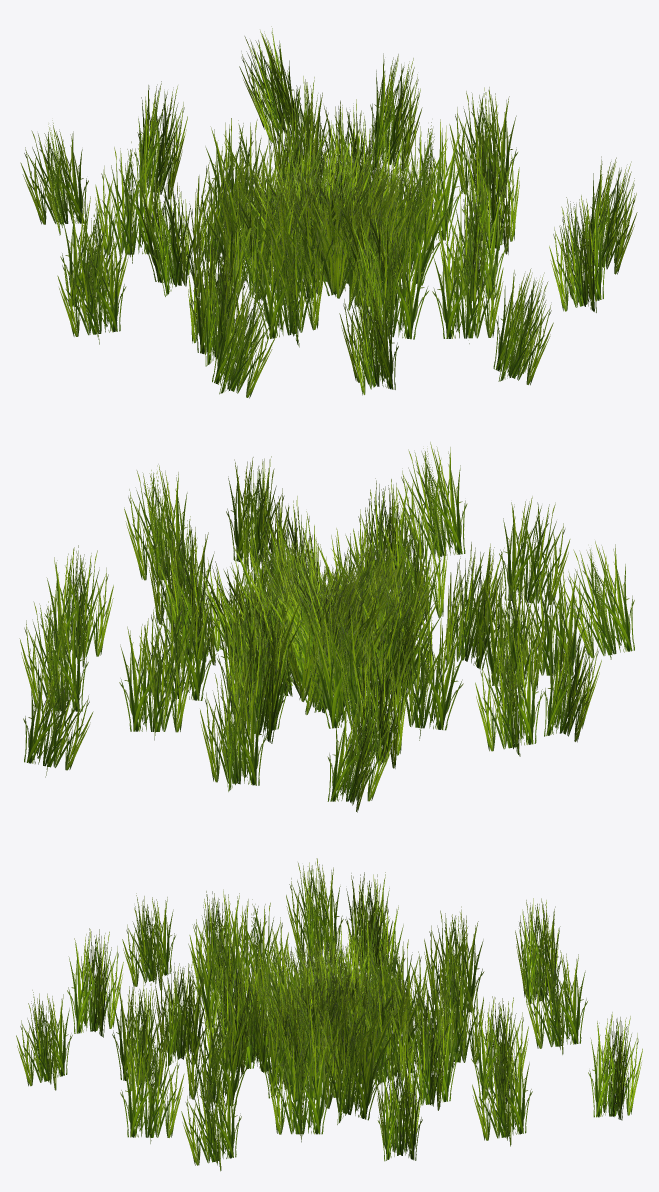
Rendered from Solo  pasto.fbx.
3 views of the same model, one above another, from view 1: azimuth 30°, elevation 25°; view 2: azimuth 150°, elevation 25°; view 3: azimuth 270°, elevation 25° (orthographic). The views are drawn at different scales.
Visible parts, largest first — view 1: U3DMesh1; view 2: U3DMesh1; view 3: U3DMesh1.
Boxes of the visible parts, x1,y1,x2,y2 form: U3DMesh1: (20,26,637,398); U3DMesh1: (19,442,634,812); U3DMesh1: (16,858,642,1171).
Size of the model in its own units: 1884 by 471 by 2113.
